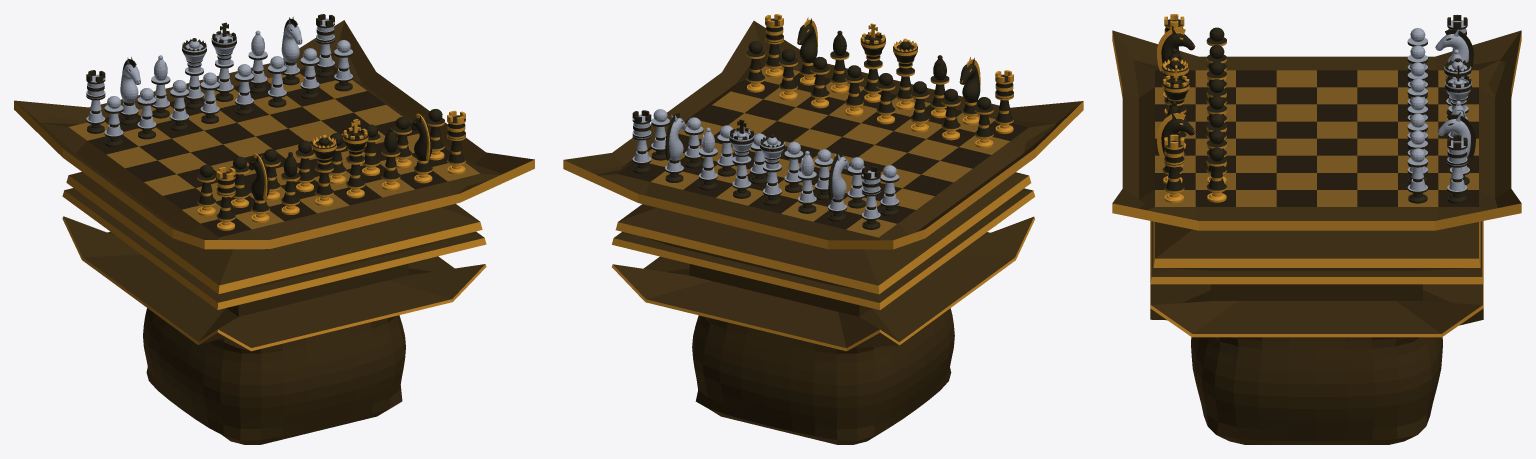
Rendered from CChess Set6.fbx.
The picture shows the model from 3 angles, left to right: view 1: azimuth 30°, elevation 25°; view 2: azimuth 150°, elevation 25°; view 3: azimuth 270°, elevation 25°; orthographic projection. The views are drawn at different scales.
Parts seen in each view (by area): view 1: Table, King, King.001, Quen, Quen.001, Knight.001, Knight.003, Knight, Knight.002, Rock, Rock.001, Rock.003 (+21 smaller); view 2: Table, King.001, King, Quen.001, Quen, Knight.003, Knight.001, Knight, Knight.002, Rock.002, Rock, Rock.001 (+21 smaller); view 3: Table, Rock.002, Rock.003, Knight.002, Knight.003, Pawn.015, Pawn.008, Knight, King, King.001, Knight.001, Pawn.014 (+3 smaller).
Part boxes in pixels (x1,y1,x2,y2): Table: (14, 20, 534, 444); King: (343, 119, 368, 198); King.001: (211, 22, 236, 101); Quen: (311, 134, 336, 206); Quen.001: (182, 38, 206, 109); Knight.001: (120, 56, 140, 125); Knight.003: (281, 16, 302, 85); Knight: (248, 153, 269, 222); Knight.002: (411, 113, 432, 183); Rock: (216, 167, 235, 230); Rock.001: (86, 70, 105, 133); Rock.003: (447, 110, 465, 174); Table: (563, 21, 1083, 444); King.001: (729, 119, 754, 198); King: (860, 23, 885, 102); Quen.001: (760, 134, 784, 205); Quen: (893, 38, 917, 110); Knight.003: (665, 113, 686, 182); Knight.001: (828, 152, 849, 221); Knight: (959, 57, 980, 125); Knight.002: (797, 17, 817, 85); Rock.002: (632, 110, 651, 173); Rock: (995, 70, 1013, 133); Rock.001: (862, 166, 880, 229); Table: (1112, 30, 1521, 444); Rock.002: (1447, 135, 1467, 203); Rock.003: (1164, 134, 1184, 203); Knight.002: (1157, 111, 1195, 184); Knight.003: (1437, 112, 1475, 184); Pawn.015: (1206, 147, 1226, 202); Pawn.008: (1407, 148, 1427, 203); Knight: (1157, 26, 1195, 98); King: (1162, 65, 1189, 148); King.001: (1445, 65, 1471, 139); Knight.001: (1435, 27, 1473, 97); Pawn.014: (1206, 130, 1226, 183).
Bounding box in the file's own units: 1921 × 1792 × 1921.
